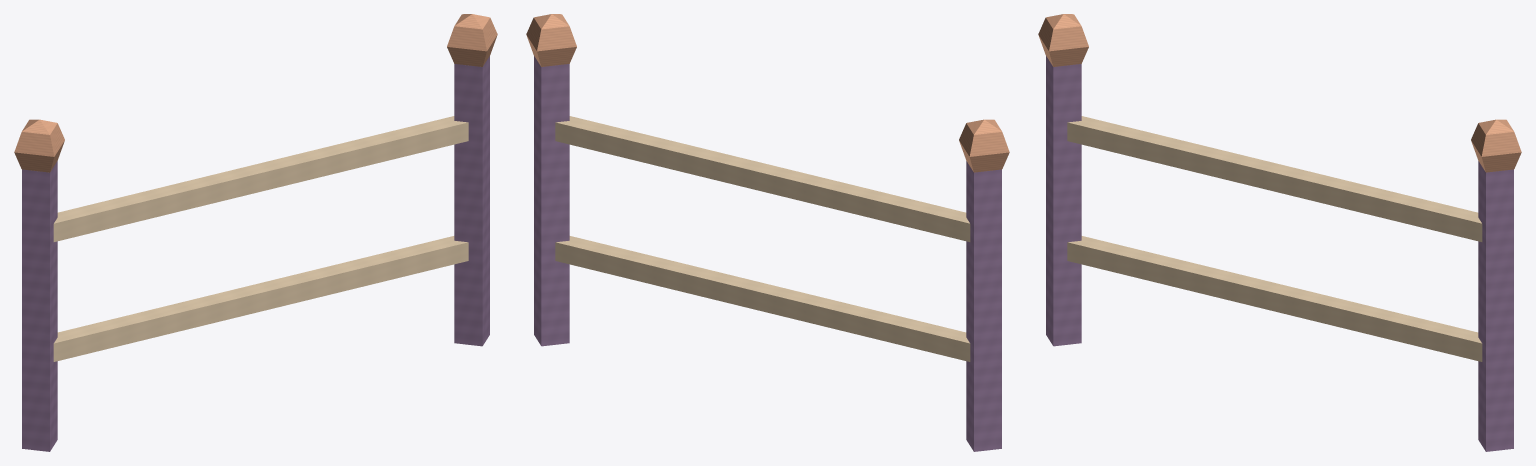
File: atlas100-papercraft-util04.glb
The picture shows the model from 3 angles, left to right: view 1: azimuth 30°, elevation 25°; view 2: azimuth 150°, elevation 25°; view 3: azimuth 330°, elevation 25°; orthographic projection.
Visible parts, largest first — view 1: atlas100-papercraft-util04:part-005, atlas100-papercraft-util04:part-004, atlas100-papercraft-util04:part-000, atlas100-papercraft-util04:part-002, atlas100-papercraft-util04:part-001, atlas100-papercraft-util04:part-003; view 2: atlas100-papercraft-util04:part-005, atlas100-papercraft-util04:part-004, atlas100-papercraft-util04:part-000, atlas100-papercraft-util04:part-002, atlas100-papercraft-util04:part-001, atlas100-papercraft-util04:part-003; view 3: atlas100-papercraft-util04:part-005, atlas100-papercraft-util04:part-004, atlas100-papercraft-util04:part-002, atlas100-papercraft-util04:part-000, atlas100-papercraft-util04:part-003, atlas100-papercraft-util04:part-001.
Boxes of the visible parts, left/top/right/bottom form: atlas100-papercraft-util04:part-005: left=53, top=116, right=468, bottom=241; atlas100-papercraft-util04:part-004: left=53, top=236, right=468, bottom=361; atlas100-papercraft-util04:part-000: left=22, top=161, right=57, bottom=451; atlas100-papercraft-util04:part-002: left=454, top=56, right=489, bottom=346; atlas100-papercraft-util04:part-001: left=14, top=119, right=64, bottom=172; atlas100-papercraft-util04:part-003: left=447, top=14, right=497, bottom=66; atlas100-papercraft-util04:part-005: left=555, top=116, right=970, bottom=241; atlas100-papercraft-util04:part-004: left=555, top=236, right=970, bottom=361; atlas100-papercraft-util04:part-000: left=966, top=161, right=1001, bottom=451; atlas100-papercraft-util04:part-002: left=534, top=56, right=569, bottom=346; atlas100-papercraft-util04:part-001: left=959, top=119, right=1009, bottom=172; atlas100-papercraft-util04:part-003: left=526, top=14, right=576, bottom=66; atlas100-papercraft-util04:part-005: left=1067, top=116, right=1482, bottom=241; atlas100-papercraft-util04:part-004: left=1067, top=236, right=1482, bottom=361; atlas100-papercraft-util04:part-002: left=1478, top=161, right=1513, bottom=451; atlas100-papercraft-util04:part-000: left=1046, top=56, right=1081, bottom=346; atlas100-papercraft-util04:part-003: left=1471, top=119, right=1521, bottom=172; atlas100-papercraft-util04:part-001: left=1038, top=14, right=1088, bottom=66.
Bounding box in the file's own units: 1.9 × 1.22 × 0.2.
Materials: 3 (3 with a texture image).
